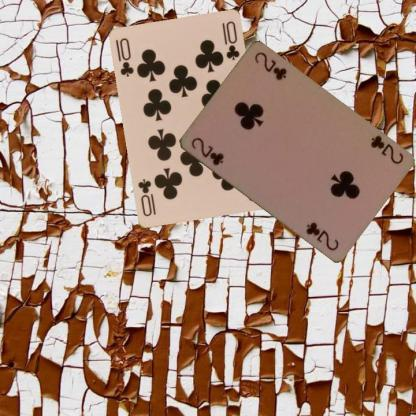10c: (117, 36, 135, 78)
2c: (368, 133, 404, 166), (188, 135, 225, 167)
